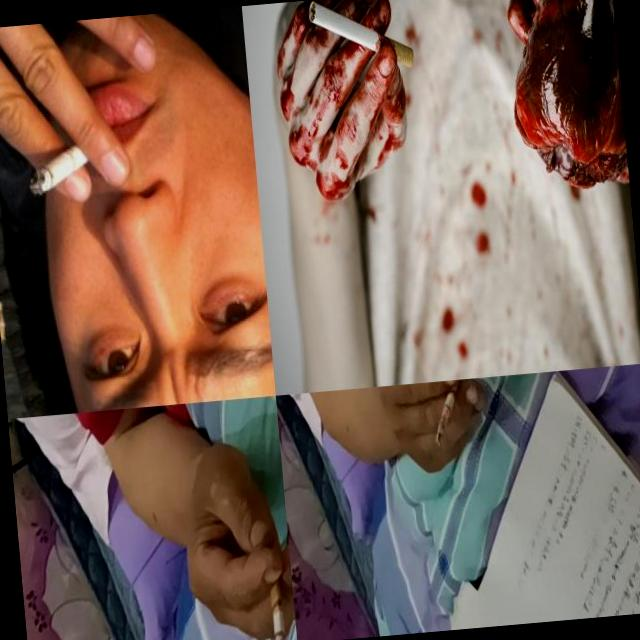smoke: (305, 0, 414, 79), (24, 141, 102, 201), (431, 380, 470, 446), (265, 561, 287, 640)
